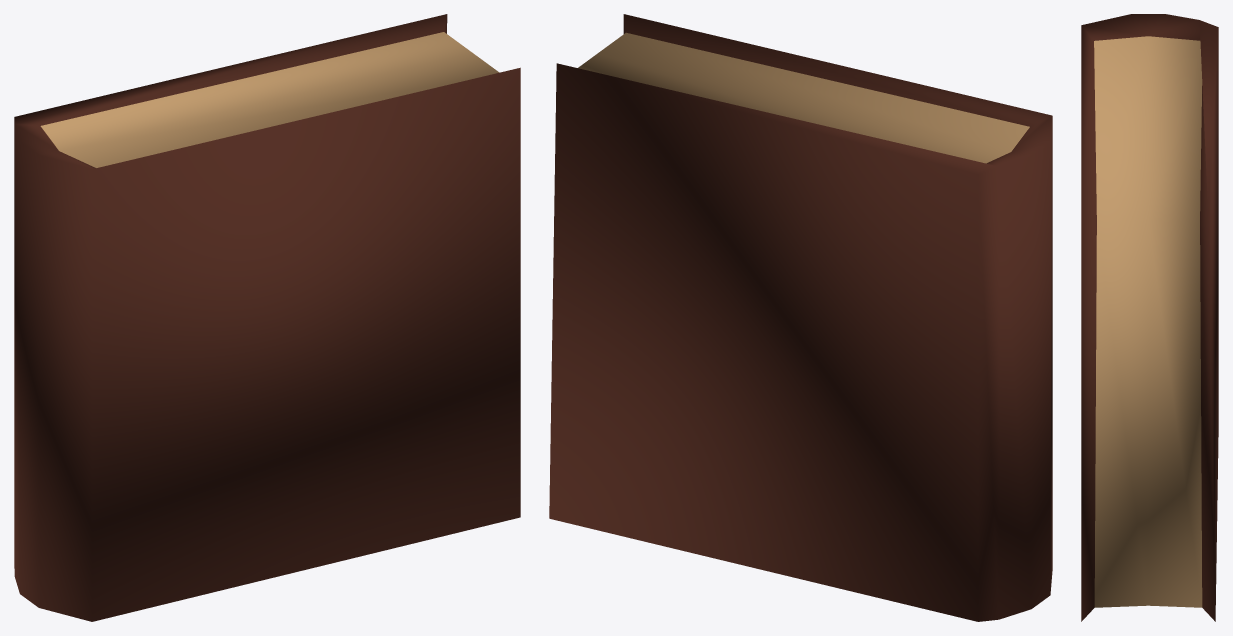
The model's file is book003.fbx.
The picture shows the model from 3 angles, left to right: view 1: azimuth 30°, elevation 25°; view 2: azimuth 150°, elevation 25°; view 3: azimuth 270°, elevation 25°; orthographic projection. The views are drawn at different scales.
Parts seen in each view (by area): view 1: Book Variation 001; view 2: Book Variation 001; view 3: Book Variation 001.
Part boxes in pixels (<box>): Book Variation 001: <box>14,14,520,621</box>; Book Variation 001: <box>549,14,1052,621</box>; Book Variation 001: <box>1081,14,1218,621</box>.
Size of the model in its own units: 0.3782 by 0.3604 by 0.1098.
